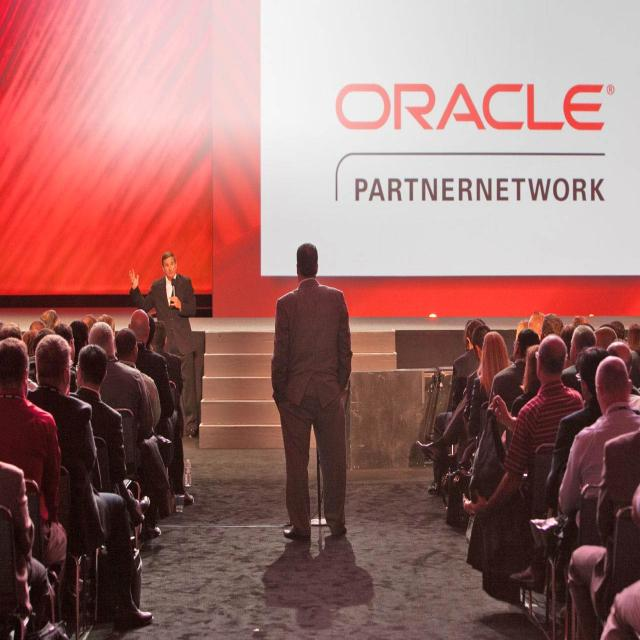oracle: (336, 79, 604, 135)
